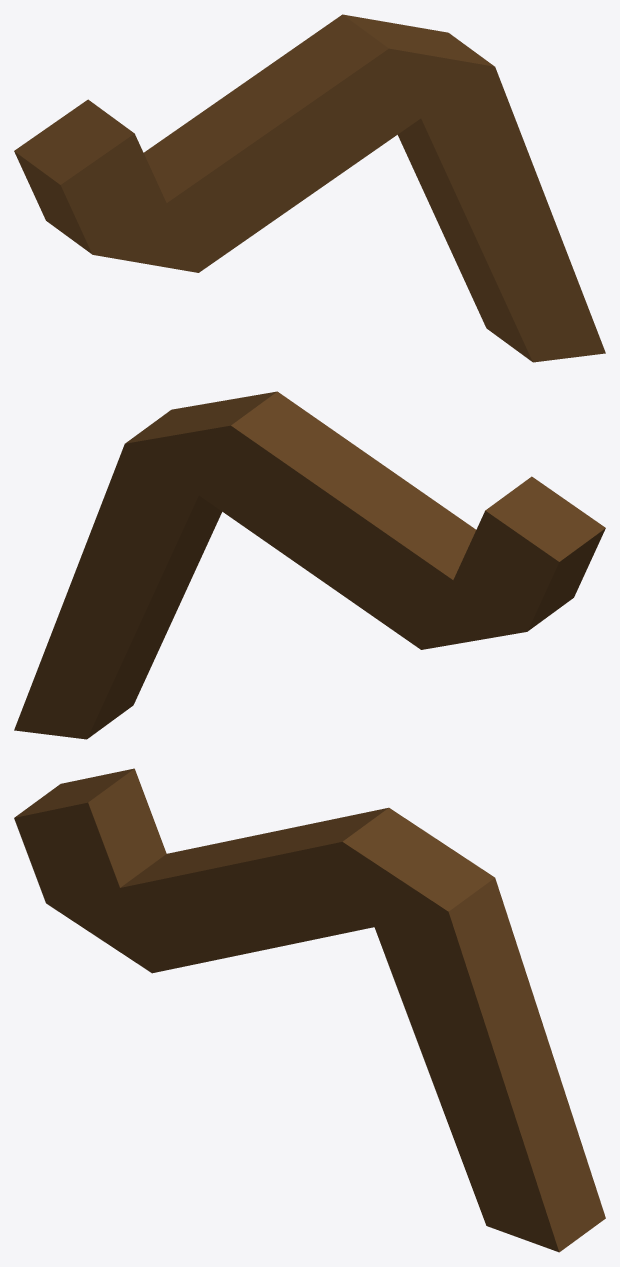
The model's file is legLM.gltf.
3 views of the same model, one above another, from view 1: azimuth 30°, elevation 25°; view 2: azimuth 150°, elevation 25°; view 3: azimuth 330°, elevation 25° (orthographic).
Visible parts, largest first — view 1: legLM; view 2: legLM; view 3: legLM.
Part boxes in pixels (x1,y1,x2,y2): legLM: [14, 14, 605, 362]; legLM: [14, 391, 605, 739]; legLM: [14, 768, 605, 1252].
Bounding box in the file's own units: 1.35 × 0.847 × 0.2.
